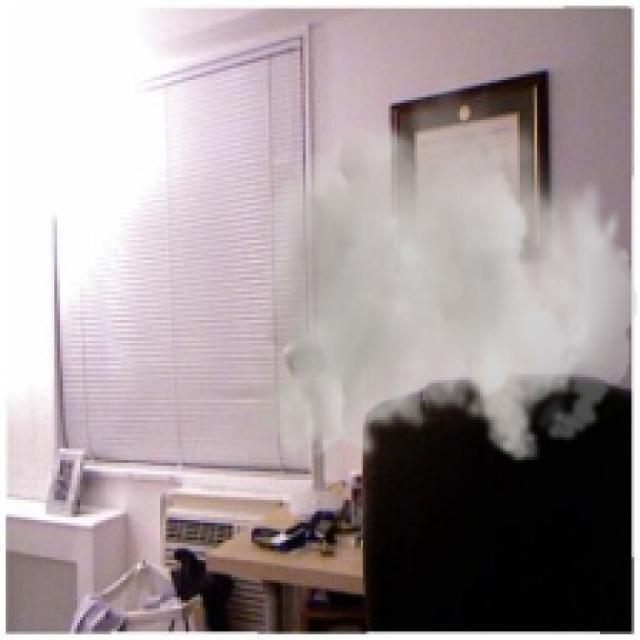Smoke: (245, 69, 638, 478)
